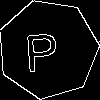P: (23, 24, 60, 72)
